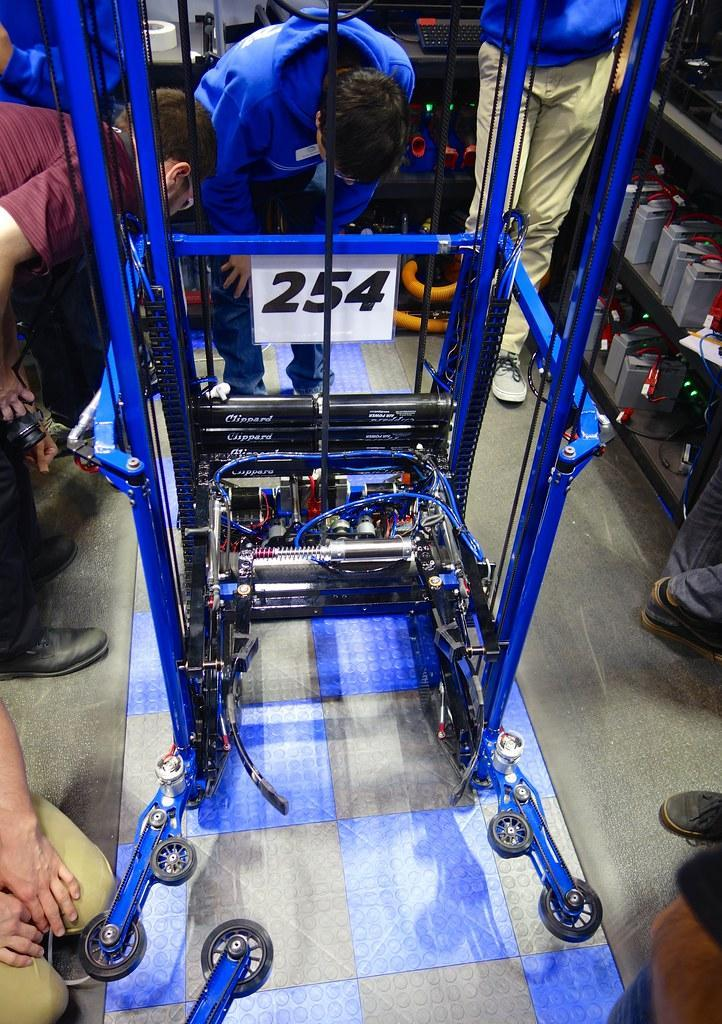robot: (40, 0, 686, 1024)
